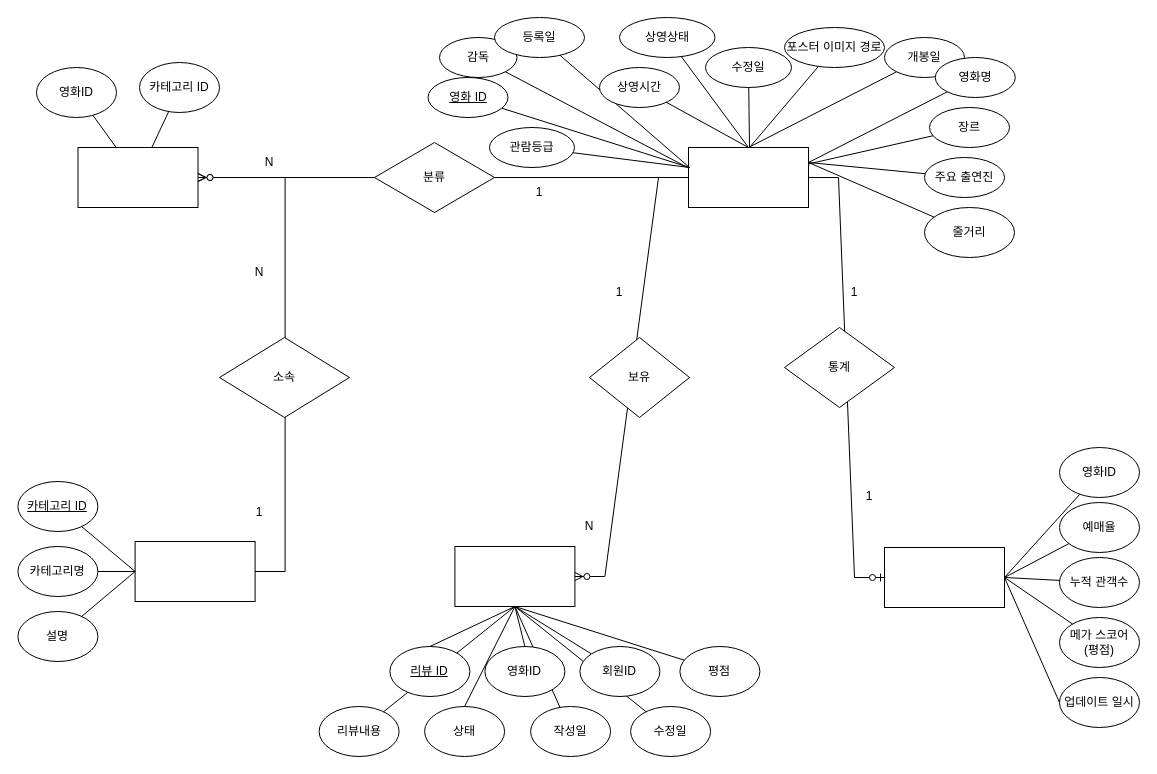
This 1157x774 diagram has some shape labels left out. The shapes that lost their labels are listed below. From the top down, each one's box as (x1, y1, x2, y2) in pixels, then its label:
(77, 146, 198, 208): 영화 분류 관계
(688, 146, 808, 208): 영화
(134, 540, 255, 602): 영화 카테고리
(454, 546, 575, 606): 리뷰
(884, 546, 1004, 608): 영화 통계
